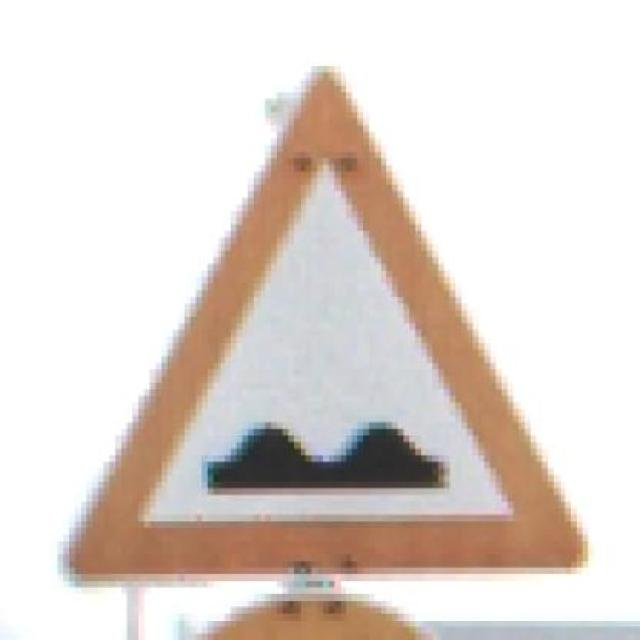Uneven Road: (63, 46, 594, 580)
